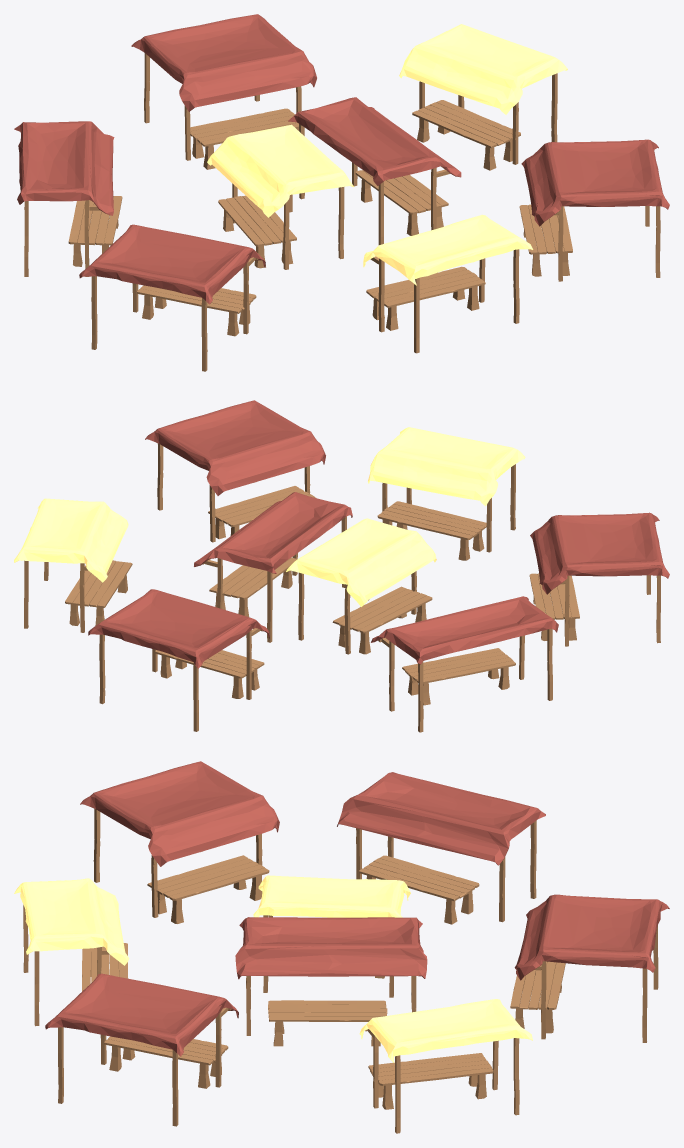
The model's file is SM_Library_01.fbx.
3 views of the same model, one above another, from view 1: azimuth 30°, elevation 25°; view 2: azimuth 150°, elevation 25°; view 3: azimuth 270°, elevation 25° (orthographic). The views are drawn at different scales.
Visible parts, largest first — view 1: SM_MarketStall_03, SM_MarketStall_03.001, SM_MarketStall_03.002, SM_MarketStall_01.001, SM_MarketStall_01, SM_MarketStall_02.001, SM_MarketStall_02, SM_MarketStall_01.002, SM_Table_01.007, SM_Table_01.004, SM_Table_01.001, SM_Table_01.005 (+4 smaller); view 2: SM_MarketStall_03.001, SM_MarketStall_03.002, SM_MarketStall_01.002, SM_MarketStall_03, SM_MarketStall_01, SM_MarketStall_02.001, SM_MarketStall_02, SM_MarketStall_01.001, SM_Table_01.002, SM_Table_01.004, SM_Table_01.001, SM_Table_01.007 (+4 smaller); view 3: SM_MarketStall_03.002, SM_MarketStall_02.001, SM_MarketStall_02, SM_MarketStall_03, SM_MarketStall_03.001, SM_MarketStall_01.001, SM_MarketStall_01.002, SM_MarketStall_01, SM_Table_01.006, SM_Table_01.007, SM_Table_01.002, SM_Table_01 (+3 smaller).
Part boxes in pixels (left/top/right/bottom): SM_MarketStall_03: left=131, top=14, right=316, bottom=160; SM_MarketStall_03.001: left=521, top=139, right=669, bottom=281; SM_MarketStall_03.002: left=79, top=224, right=265, bottom=371; SM_MarketStall_01.001: left=399, top=24, right=567, bottom=164; SM_MarketStall_01: left=207, top=124, right=354, bottom=269; SM_MarketStall_02.001: left=14, top=121, right=114, bottom=276; SM_MarketStall_02: left=288, top=97, right=461, bottom=244; SM_MarketStall_01.002: left=363, top=214, right=533, bottom=353; SM_Table_01.007: left=412, top=100, right=520, bottom=170; SM_Table_01.004: left=366, top=266, right=485, bottom=330; SM_Table_01.001: left=218, top=195, right=296, bottom=268; SM_Table_01.005: left=190, top=108, right=298, bottom=169; SM_MarketStall_03.001: left=145, top=400, right=325, bottom=542; SM_MarketStall_03.002: left=530, top=512, right=669, bottom=646; SM_MarketStall_01.002: left=368, top=427, right=525, bottom=552; SM_MarketStall_03: left=88, top=589, right=269, bottom=731; SM_MarketStall_01: left=286, top=518, right=436, bottom=654; SM_MarketStall_02.001: left=371, top=596, right=558, bottom=732; SM_MarketStall_02: left=194, top=492, right=352, bottom=642; SM_MarketStall_01.001: left=14, top=498, right=128, bottom=632; SM_Table_01.002: left=402, top=648, right=515, bottom=705; SM_Table_01.004: left=377, top=501, right=486, bottom=560; SM_Table_01.001: left=332, top=586, right=432, bottom=654; SM_Table_01.007: left=65, top=560, right=132, bottom=625; SM_MarketStall_03.002: left=80, top=761, right=279, bottom=917; SM_MarketStall_02.001: left=337, top=772, right=545, bottom=922; SM_MarketStall_02: left=235, top=917, right=427, bottom=1035; SM_MarketStall_03: left=514, top=894, right=669, bottom=1042; SM_MarketStall_03.001: left=45, top=973, right=238, bottom=1126; SM_MarketStall_01.001: left=359, top=999, right=532, bottom=1133; SM_MarketStall_01.002: left=14, top=878, right=129, bottom=1026; SM_MarketStall_01: left=253, top=875, right=410, bottom=997; SM_Table_01.006: left=147, top=855, right=269, bottom=923; SM_Table_01.007: left=368, top=1053, right=493, bottom=1109; SM_Table_01.002: left=359, top=855, right=479, bottom=924; SM_Table_01: left=268, top=1000, right=387, bottom=1046.
Size of the model in its own units: 1810 by 260 by 1711.
